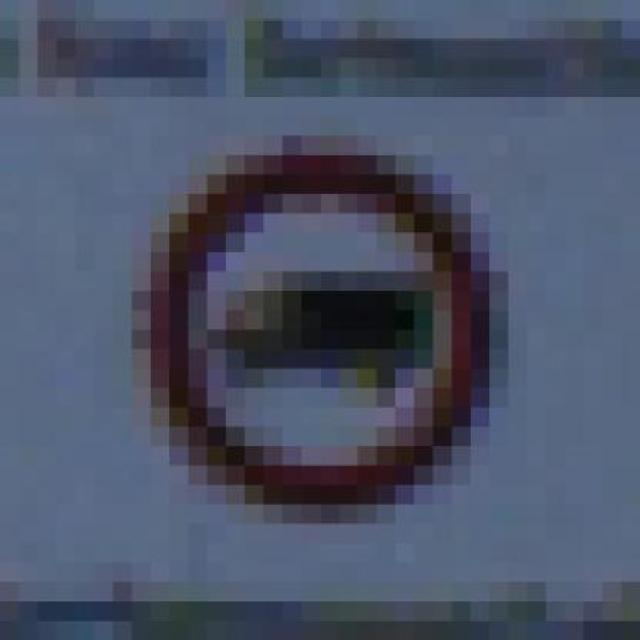Truck traffic is prohibited: (113, 58, 509, 524)
